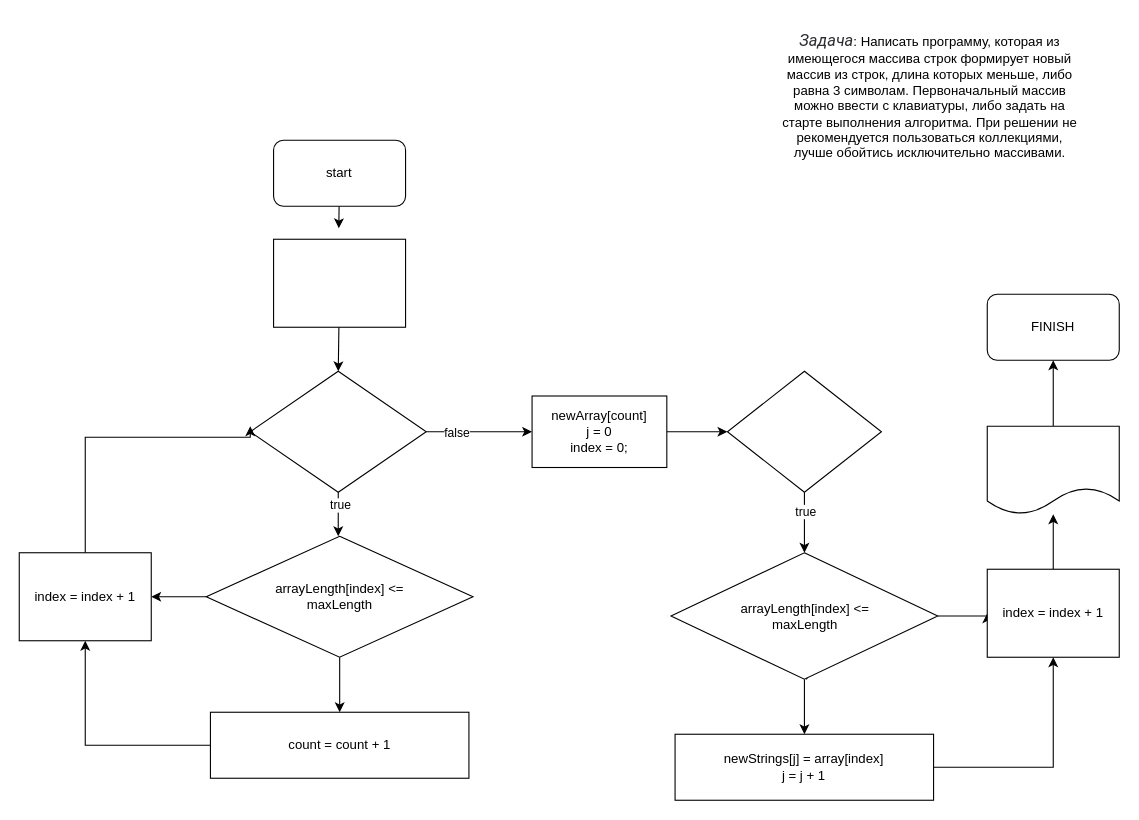
This 1139x820 diagram has some shape labels left out. Here are the shapes that lost their labels. From the top down, the centre of each, then its label:
At [339,282]: "array[] count = 0 index = 0 maxLength = 3 size = array[]".
At [337,431]: "index < size".
At [803,431]: "index < array[size]".
At [1052,469]: "newString".
